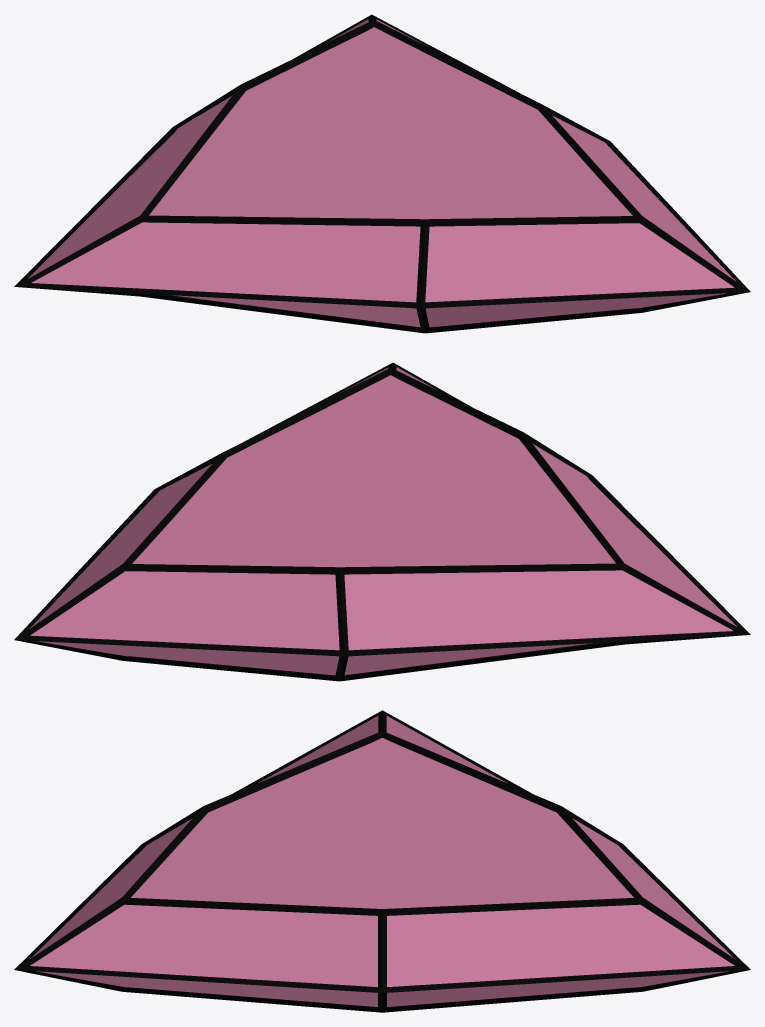
The model's file is tri.fbx.
3 views of the same model, one above another, from view 1: azimuth 30°, elevation 25°; view 2: azimuth 150°, elevation 25°; view 3: azimuth 270°, elevation 25° (orthographic). The views are drawn at different scales.
Parts seen in each view (by area): view 1: Plane; view 2: Plane; view 3: Plane.
Part boxes in pixels (<box>): Plane: <box>14,14,750,333</box>; Plane: <box>14,362,750,681</box>; Plane: <box>14,710,750,1012</box>.
Size of the model in its own units: 1.52 by 0.2782 by 1.67.
